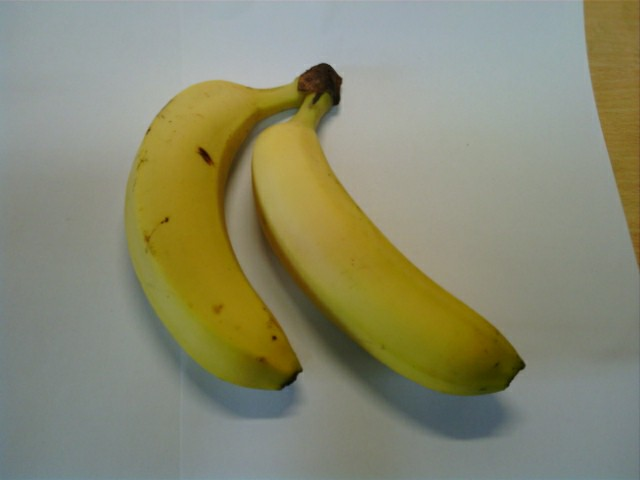fresh_banana: (251, 121, 526, 396)
normal_banana: (124, 75, 301, 392)
